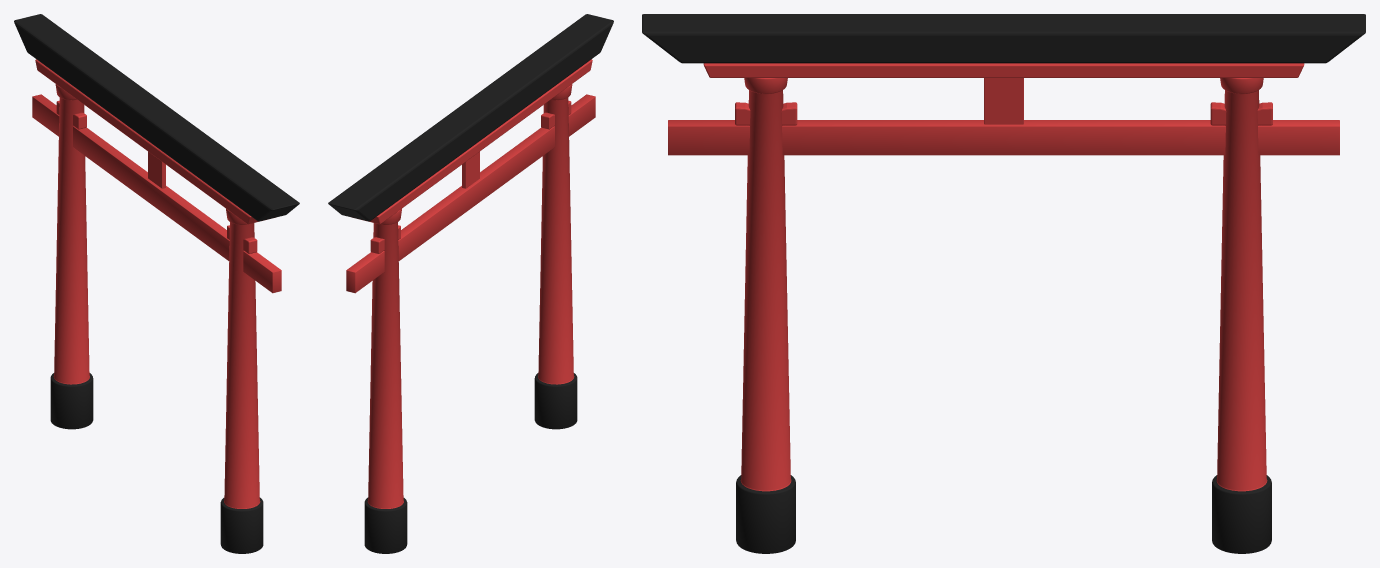
File: entrance gate.fbx
The picture shows the model from 3 angles, left to right: view 1: azimuth 30°, elevation 25°; view 2: azimuth 150°, elevation 25°; view 3: azimuth 270°, elevation 25°; orthographic projection. The views are drawn at different scales.
Parts seen in each view (by area): view 1: entrance gate; view 2: entrance gate; view 3: entrance gate.
Part boxes in pixels (x1,y1,x2,y2): entrance gate: [14, 14, 299, 553]; entrance gate: [328, 14, 613, 553]; entrance gate: [642, 14, 1365, 553].
Bounding box in the file's own units: 41.14 × 394 × 498.
